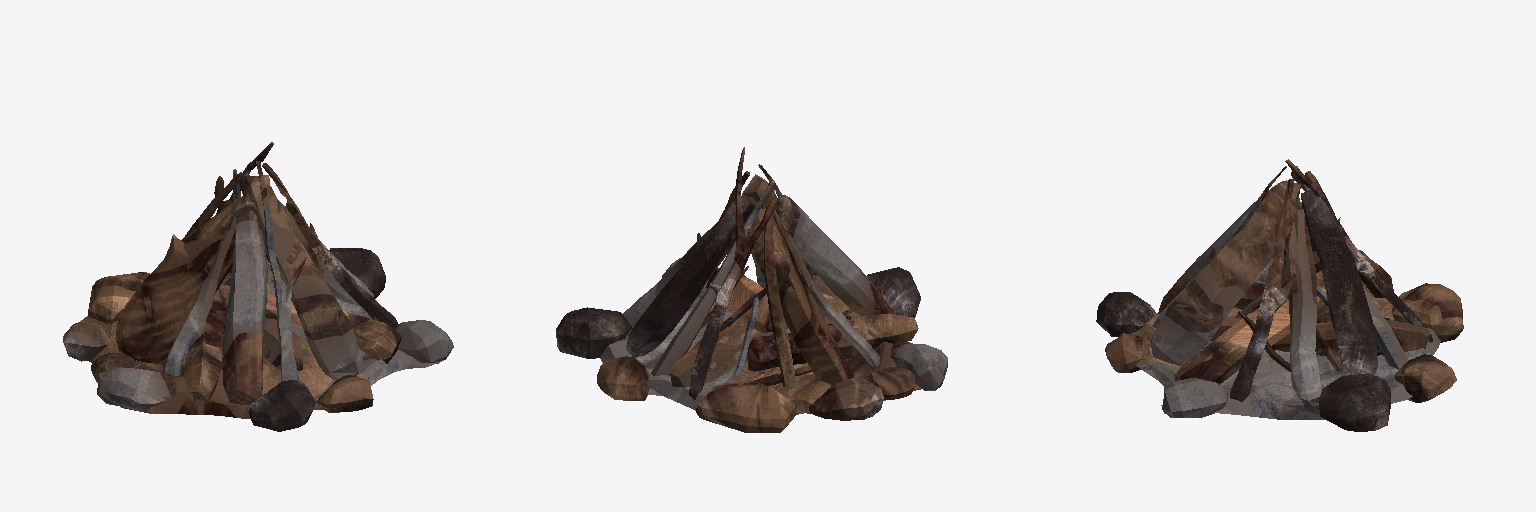
3 renders of one model, left to right at view 1: azimuth 30°, elevation 25°; view 2: azimuth 150°, elevation 25°; view 3: azimuth 270°, elevation 25°, orthographic.
Parts seen in each view (by area): view 1: Campfire; view 2: Campfire; view 3: Campfire.
Boxes of the visible parts, <box> form: Campfire: <box>63,142,453,431</box>; Campfire: <box>556,147,947,432</box>; Campfire: <box>1096,159,1463,431</box>.
Bounding box in the file's own units: 97.99 × 60.11 × 94.05.
1 materials, 1 textured.